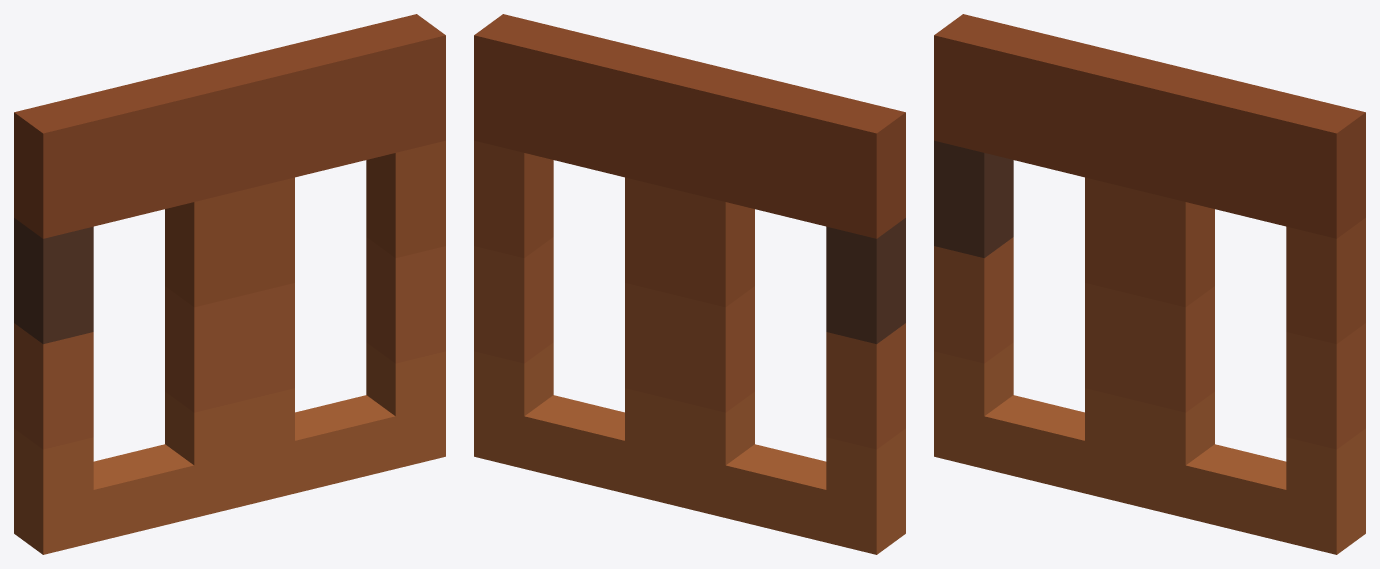
Rendered from _Plum Door Top.glb.
The picture shows the model from 3 angles, left to right: view 1: azimuth 30°, elevation 25°; view 2: azimuth 150°, elevation 25°; view 3: azimuth 330°, elevation 25°; orthographic projection.
Visible parts, largest first — view 1: generated(Clone); view 2: generated(Clone); view 3: generated(Clone).
Part boxes in pixels (x1=…): generated(Clone): x1=14, y1=14, x2=445, y2=554; generated(Clone): x1=474, y1=14, x2=905, y2=554; generated(Clone): x1=934, y1=14, x2=1365, y2=554.
Size of the model in its own units: 8 by 8 by 1.
Materials: 1 (1 with a texture image).
